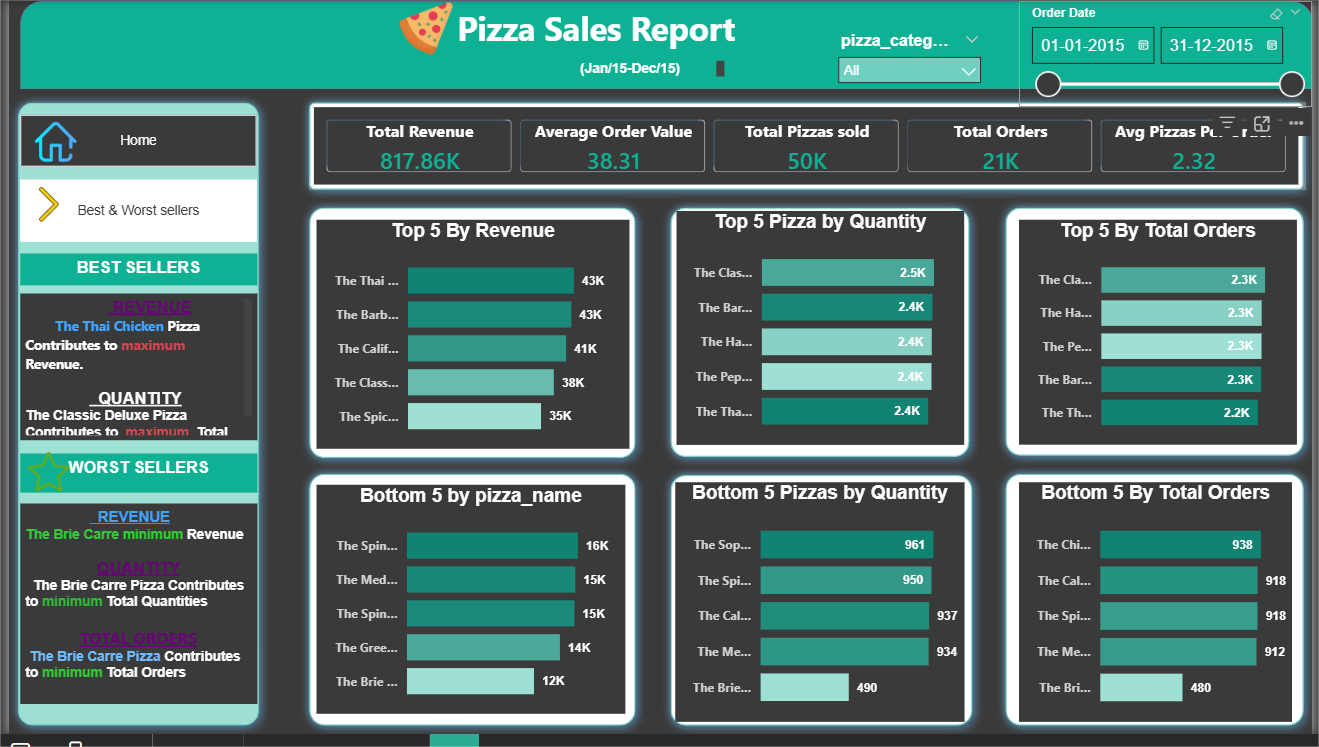

The dashboard page shown, as its layout file describes it:
{"tool":"powerbi","page":{"name":"Best  & Worst sellers","canvas":[1280,720],"ordinal":1},"visuals":[{"type":"shape","box":[286.4,91.1,993.6,103.1],"z":0},{"type":"shape","box":[969.6,455.4,310.4,264.9],"z":1000},{"type":"shape","box":[969.6,194.2,310.4,261.3],"z":2000},{"type":"shape","box":[0,91.1,254.1,629.2],"z":3000},{"type":"cardVisual","fields":{"Data":["public pizza_sales.Total Revenue","public pizza_sales.Average Order Value","public pizza_sales.Total Pizzas sold","public pizza_sales.Total Orders","public pizza_sales.avg Pizzas Per Order"]},"box":[294.3,99.6,978.2,86.6],"z":4000},{"type":"shape","box":[11.3,0,1269.1,86.8],"z":5000},{"type":"textbox","box":[364.3,0,427.9,53.9],"z":6000},{"type":"textbox","box":[519.6,54.1,188.2,24.8],"z":7000},{"type":"shape","box":[286.4,194.2,338,263.7],"z":8000},{"type":"textbox","box":[10.8,248.1,232.5,31.2],"z":9000},{"type":"textbox","box":[10.8,287.6,232.5,143.8],"z":10000},{"type":"textbox","box":[10.8,444.6,232.5,38.4],"z":11000},{"type":"textbox","box":[10.8,493.8,232.5,196.6],"z":12000},{"type":"slicer","fields":{"Values":["public pizza_sales.pizza_category"]},"box":[804.2,24,160.6,61.1],"z":13000},{"type":"shape","box":[286.4,455.4,338,264.9],"z":14000},{"type":"shape","box":[640.2,193.9,311.1,262.6],"z":15000},{"type":"shape","box":[640,456.6,314,263.7],"z":16000},{"type":"barChart","title":"Top 5 By  Revenue","fields":{"Category":["public pizza_sales.pizza_name"],"Y":["public pizza_sales.Total Revenue"]},"box":[301.5,215,307.3,225.1],"z":17000},{"type":"barChart","title":"Bottom 5 by pizza_name","fields":{"Category":["public pizza_sales.pizza_name"],"Y":["public pizza_sales.Total Revenue"]},"box":[301.5,474.7,303,225.1],"z":18000},{"type":"barChart","title":"Top 5 Pizza  by Quantity","fields":{"Category":["public pizza_sales.pizza_name"],"Y":["public pizza_sales.Total Pizzas sold"]},"box":[655,206.3,282.8,229.4],"z":19000},{"type":"barChart","title":"Bottom 5 Pizzas by Quantity ","fields":{"Category":["public pizza_sales.pizza_name"],"Y":["public pizza_sales.Total Pizzas sold"]},"box":[654.4,472.2,284,234.9],"z":20000},{"type":"barChart","title":"Top 5 By  Total Orders","fields":{"Category":["public pizza_sales.pizza_name"],"Y":["public pizza_sales.Total Orders"]},"box":[991.2,215,272.7,220.7],"z":21000},{"type":"barChart","title":"Bottom 5 By  Total Orders","fields":{"Category":["public pizza_sales.pizza_name"],"Y":["public pizza_sales.Total Orders"]},"box":[991.2,471.8,268.4,235.2],"z":22000},{"type":"pageNavigator","box":[10.8,175,232.5,61.1],"z":23000},{"type":"pageNavigator","box":[10.8,111.5,232.5,51.5],"z":24000},{"type":"slicer","fields":{"Values":["public pizza_sales.order_date"]},"box":[991.2,0,288.8,104.3],"z":25000},{"type":"image","box":[10.8,117.5,69.5,40.7],"z":26000},{"type":"image","box":[376.3,0,65.9,53.9],"z":27000},{"type":"image","box":[0,183.4,77.9,33.6],"z":28000},{"type":"image","box":[9.6,442.2,58.7,40.7],"z":29000}]}

Visuals, with their boxes in screenshot pixels (x1, y1, x2, y2):
shape: 298:103:1308:208
shape: 992:473:1308:742
shape: 992:208:1308:473
shape: 7:103:265:742
cardVisual - public pizza_sales.Total Revenue x public pizza_sales.Average Order Value: 306:112:1300:200
shape: 18:10:1308:99
textbox: 377:10:812:65
textbox: 535:65:726:90
shape: 298:208:641:476
textbox: 18:262:254:294
textbox: 18:303:254:449
textbox: 18:462:254:501
textbox: 18:512:254:712
slicer - public pizza_sales.pizza_category: 824:35:987:97
shape: 298:473:641:742
shape: 657:207:974:474
shape: 657:474:976:742
"Top 5 By  Revenue" barChart: 313:229:626:458
"Bottom 5 by pizza_name" barChart: 313:493:621:721
"Top 5 Pizza  by Quantity" barChart: 672:220:960:453
"Bottom 5 Pizzas by Quantity " barChart: 672:490:960:729
"Top 5 By  Total Orders" barChart: 1014:229:1291:453
"Bottom 5 By  Total Orders" barChart: 1014:490:1287:729
pageNavigator: 18:188:254:250
pageNavigator: 18:124:254:176
slicer - public pizza_sales.order_date: 1014:10:1308:116
image: 18:130:88:171
image: 389:10:456:65
image: 7:197:86:231
image: 17:460:76:501
